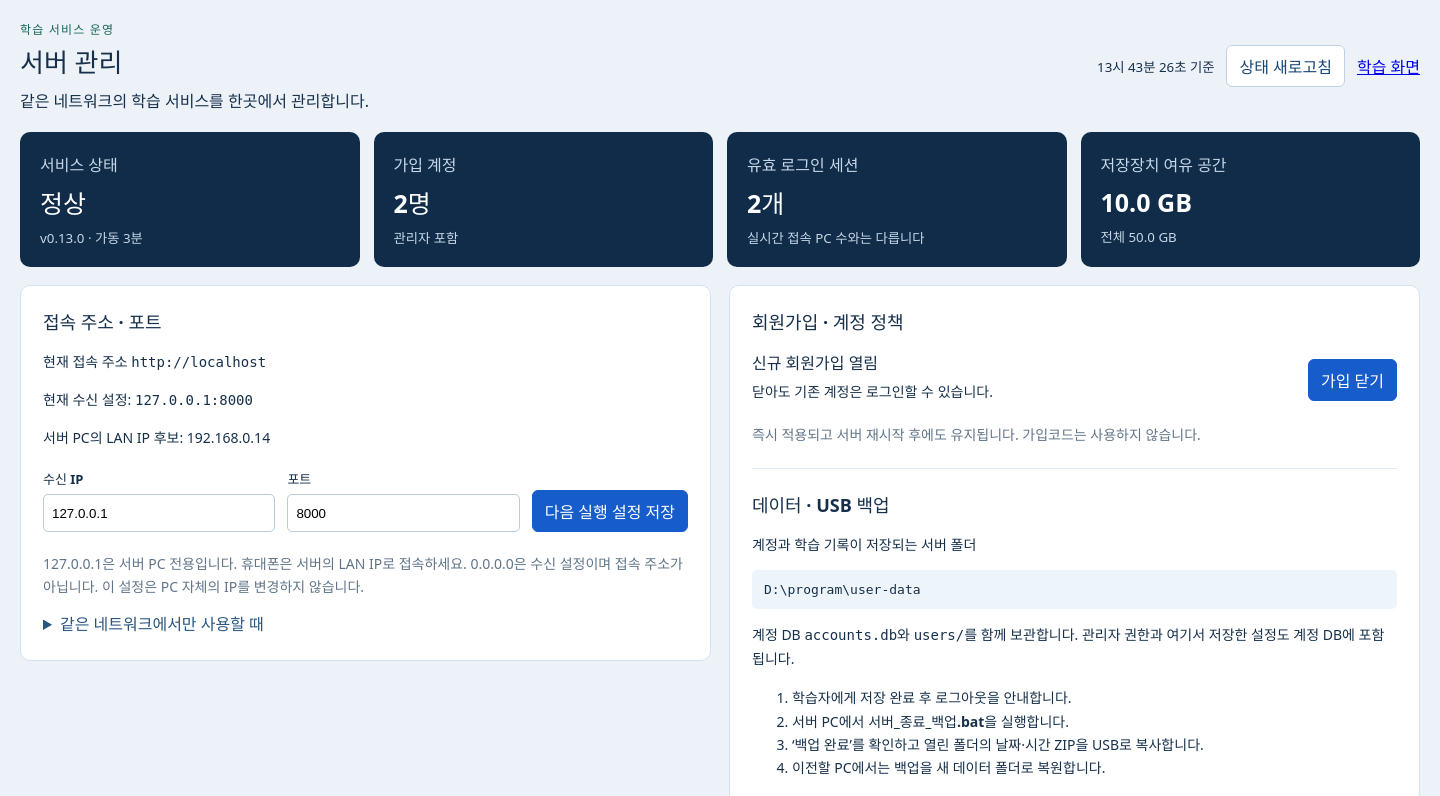
Test: reports forbidden or failed requests instead of claiming that settings were saved
Click the button "가입 닫기".
click(1352, 380)  # box [1308, 358, 1397, 400]
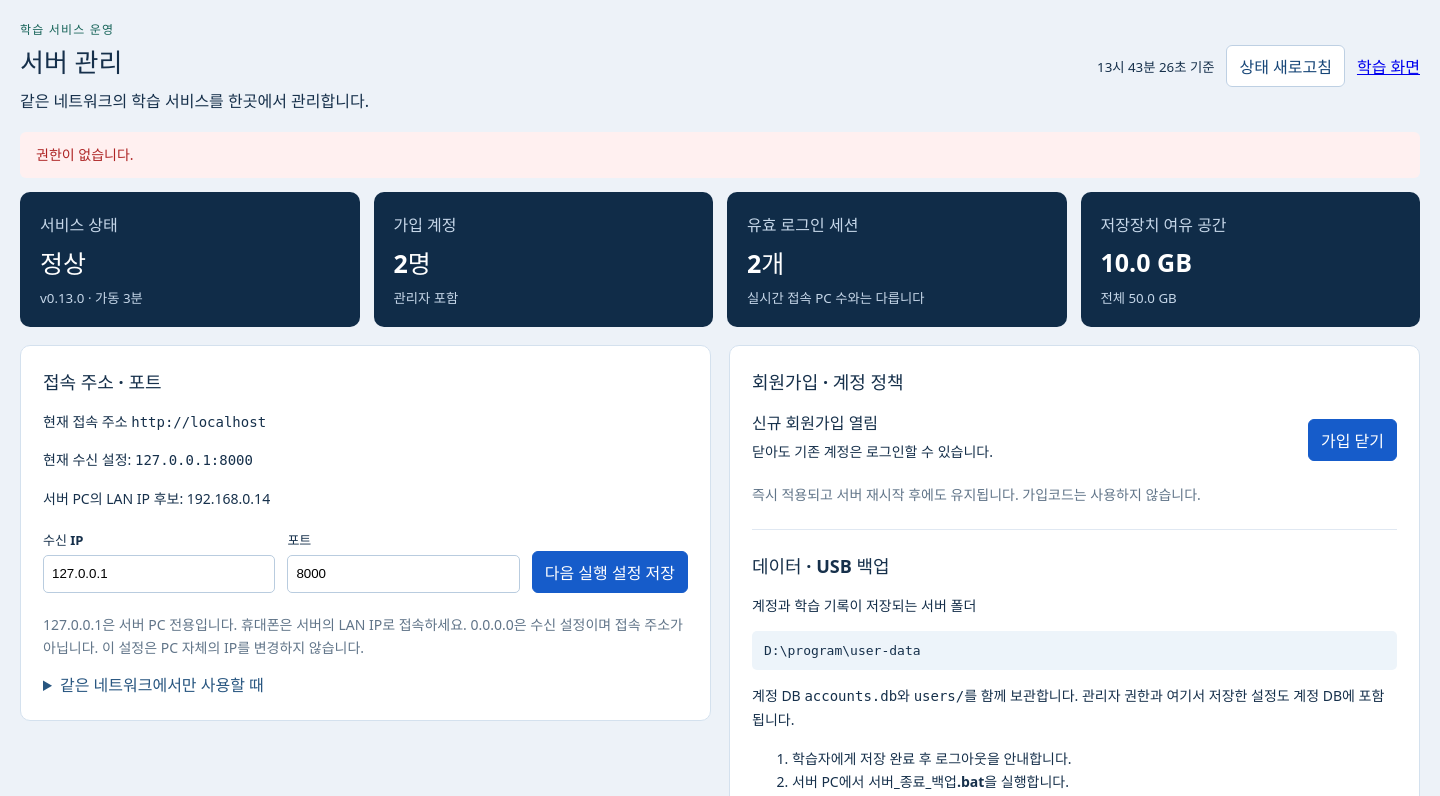
Expected: the message reads "권한이 없습니다.", [36, 145, 134, 164]
